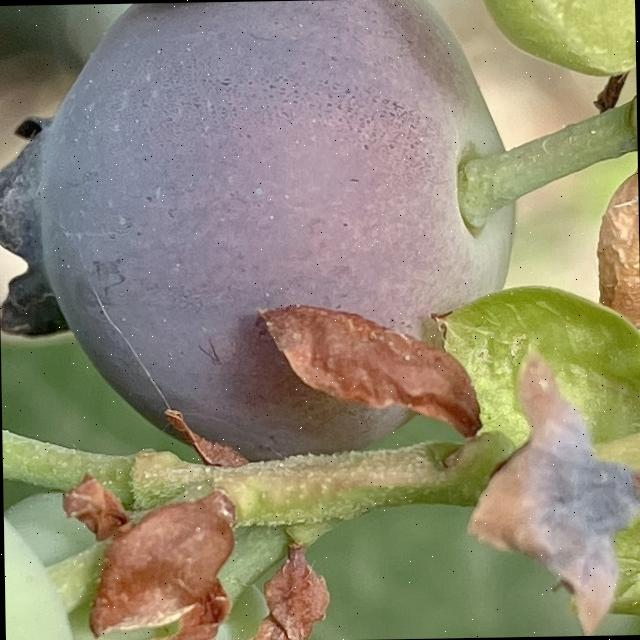Blueberries: (0, 0, 519, 470)
